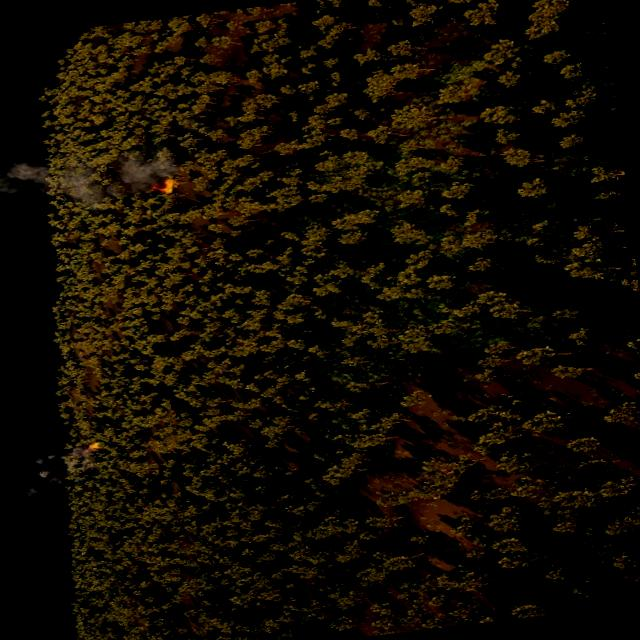fire: (156, 177, 176, 193), (86, 440, 100, 450)
smoke: (49, 136, 181, 208), (32, 442, 98, 485), (0, 156, 51, 200), (22, 484, 39, 497)
